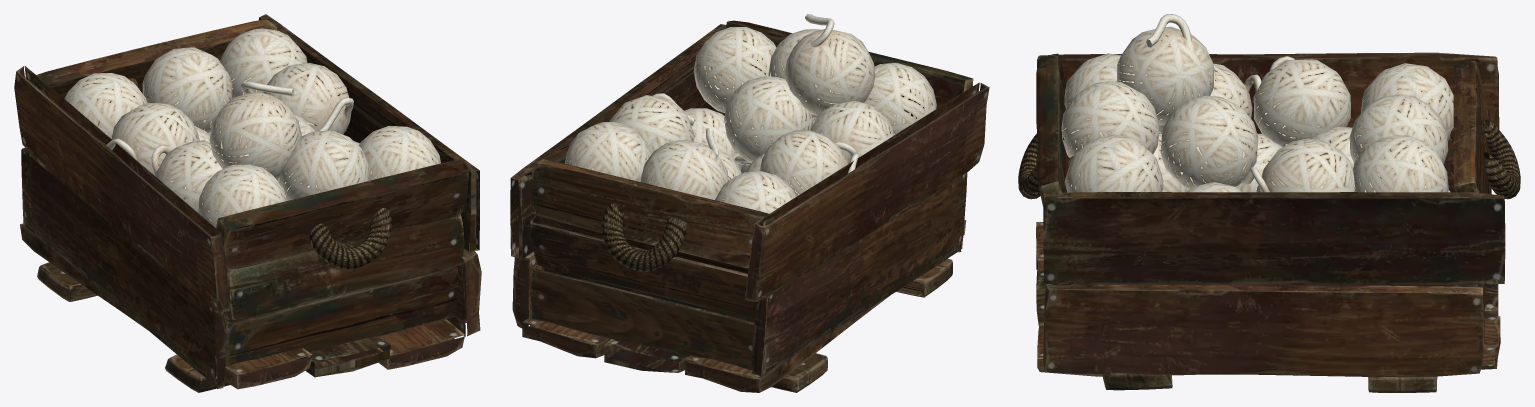
3 renders of one model, left to right at view 1: azimuth 30°, elevation 25°; view 2: azimuth 150°, elevation 25°; view 3: azimuth 270°, elevation 25°, orthographic. The views are drawn at different scales.
Parts seen in each view (by area): view 1: SM_Dec_Garou_Chest_Thread_Wool_Small_LOD0; view 2: SM_Dec_Garou_Chest_Thread_Wool_Small_LOD0; view 3: SM_Dec_Garou_Chest_Thread_Wool_Small_LOD0.
Boxes of the visible parts, x1,y1,x2,y2 form: SM_Dec_Garou_Chest_Thread_Wool_Small_LOD0: (14, 14, 481, 392); SM_Dec_Garou_Chest_Thread_Wool_Small_LOD0: (510, 14, 989, 392); SM_Dec_Garou_Chest_Thread_Wool_Small_LOD0: (1018, 14, 1520, 392).
Bounding box in the file's own units: 0.6922 × 0.626 × 0.9929.
2 materials, 2 textured.
